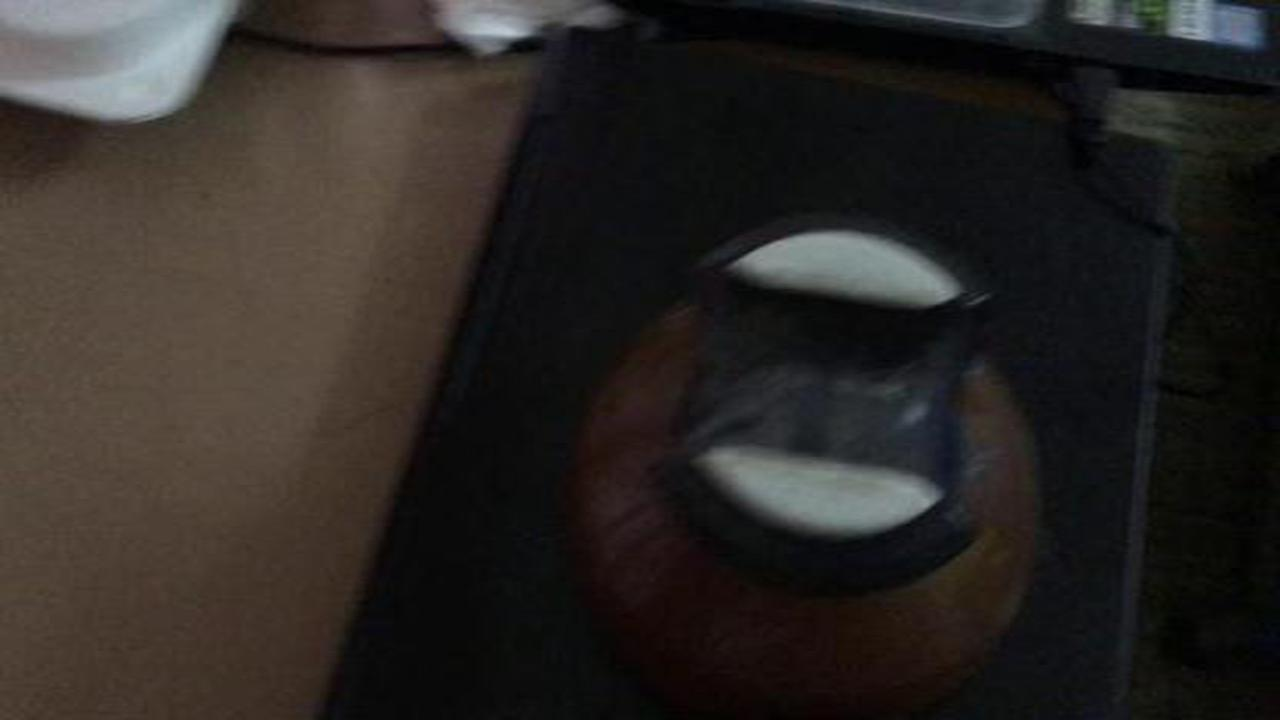insulator_pin: (548, 208, 1081, 705)
